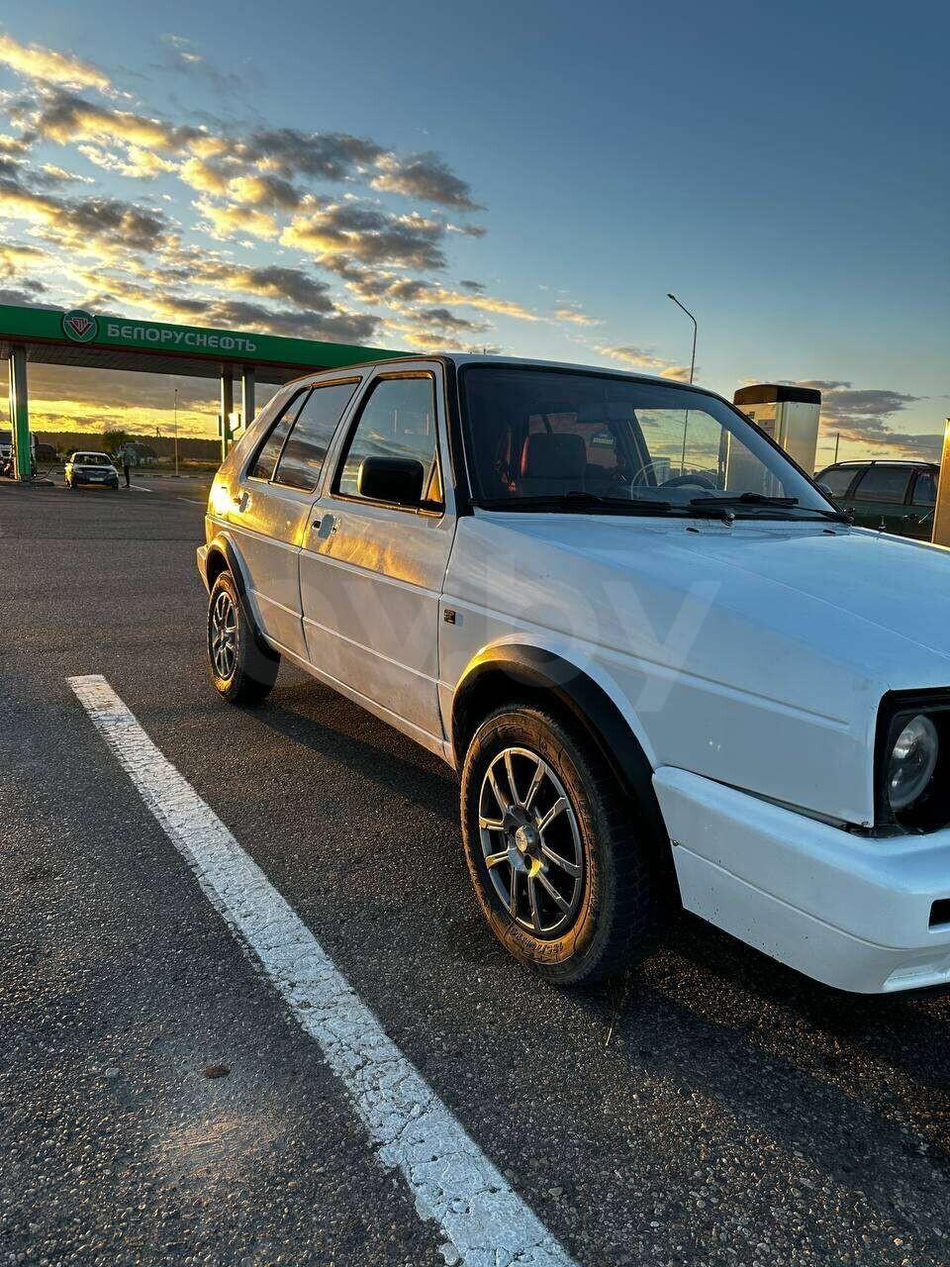Golf_1983-1992: (191, 347, 950, 1021)
